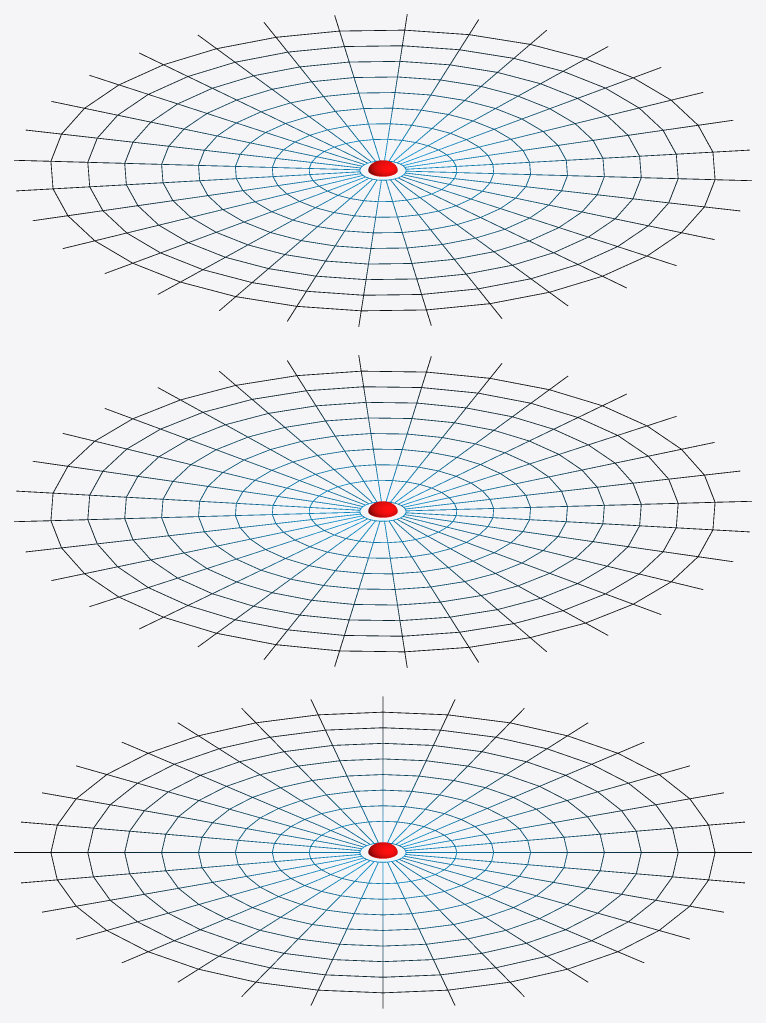
File: floor.FBX
3 renders of one model, top to bottom at view 1: azimuth 30°, elevation 25°; view 2: azimuth 150°, elevation 25°; view 3: azimuth 270°, elevation 25°, orthographic.
Parts seen in each view (by area): view 1: Cylinder002; view 2: Cylinder002; view 3: Cylinder002.
Part boxes in pixels (x1=…): Cylinder002: x1=14, y1=14, x2=751, y2=326; Cylinder002: x1=14, y1=355, x2=751, y2=667; Cylinder002: x1=14, y1=696, x2=751, y2=1008.
Size of the model in its own units: 197 by 2.52 by 197.
